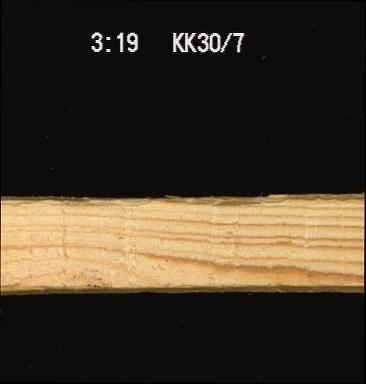wave: (0, 190, 364, 207), (5, 270, 105, 295)
